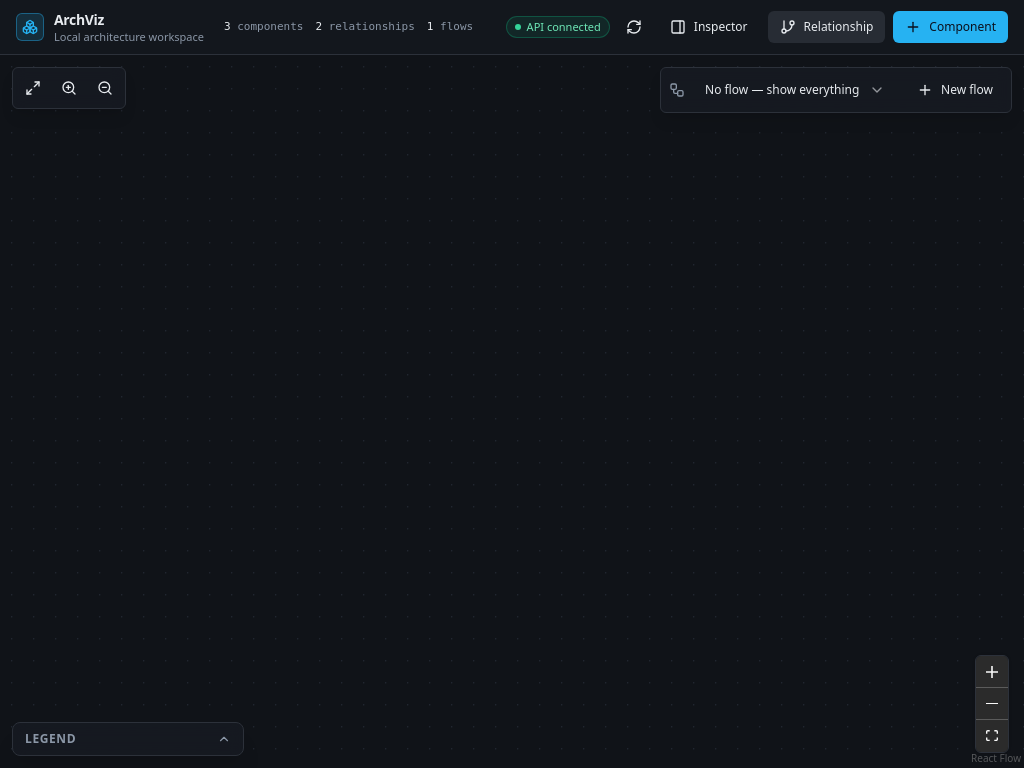
it: App › keeps the graph full-width on narrow viewports by moving the inspector into an overlay
This screenshot has width=1024, height=768.
expect the text "Nothing selected" is not shown: met
...and the inspector is reachable from the header instead.
Click the button "Inspector" at point(709, 27), box 658,11 -> 760,43
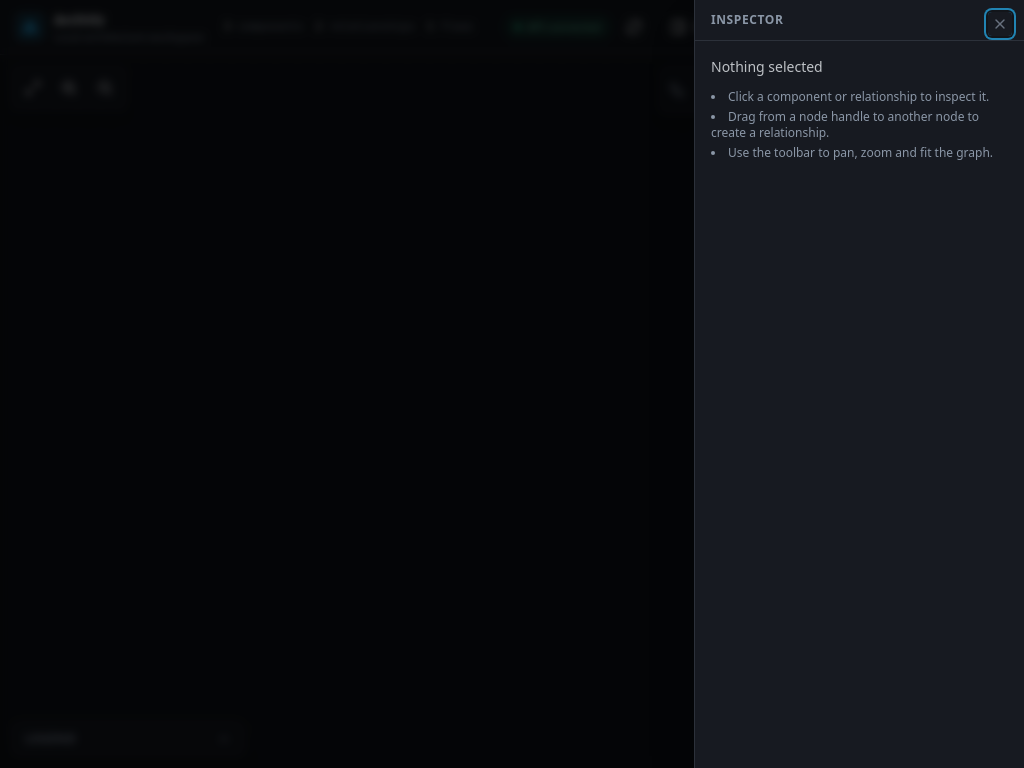
expect the text "Nothing selected" is shown: met, box 711,57 -> 823,76
expect the dialog "Inspector" is shown: met, box 694,0 -> 1023,767
